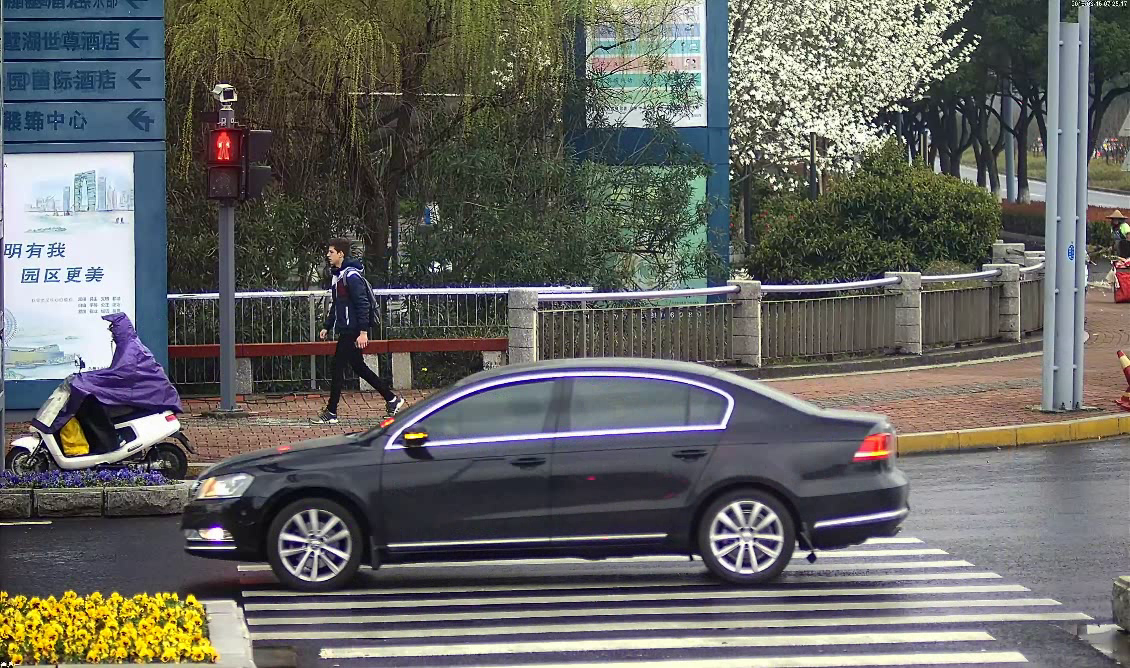person: (310, 237, 405, 427), (73, 310, 151, 478)
